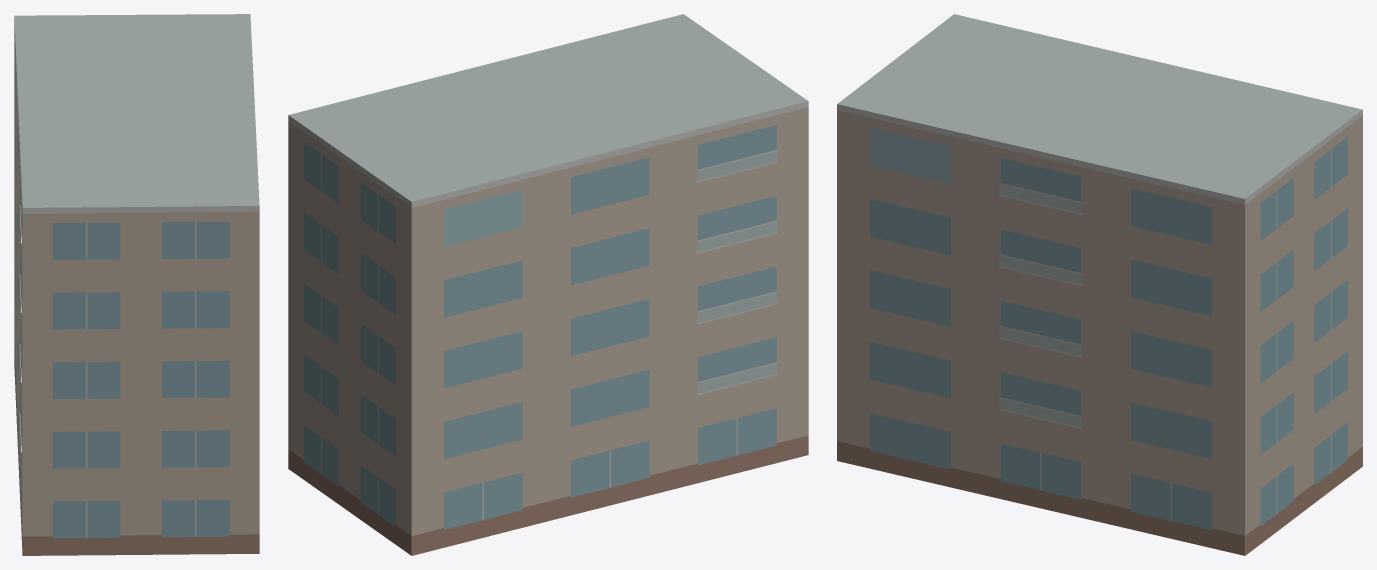
File: survey-upis-32876030.glb
3 renders of one model, left to right at view 1: azimuth 30°, elevation 25°; view 2: azimuth 150°, elevation 25°; view 3: azimuth 270°, elevation 25°, orthographic. The views are drawn at different scales.
Parts seen in each view (by area): view 1: survey-upis-32876030.tmp; view 2: survey-upis-32876030.tmp; view 3: survey-upis-32876030.tmp.
Boxes of the visible parts, x1,y1,x2,y2 form: survey-upis-32876030.tmp: [14, 14, 259, 555]; survey-upis-32876030.tmp: [288, 14, 808, 555]; survey-upis-32876030.tmp: [837, 14, 1362, 555].
Size of the model in its own units: 16.24 by 14.6 by 19.5.
